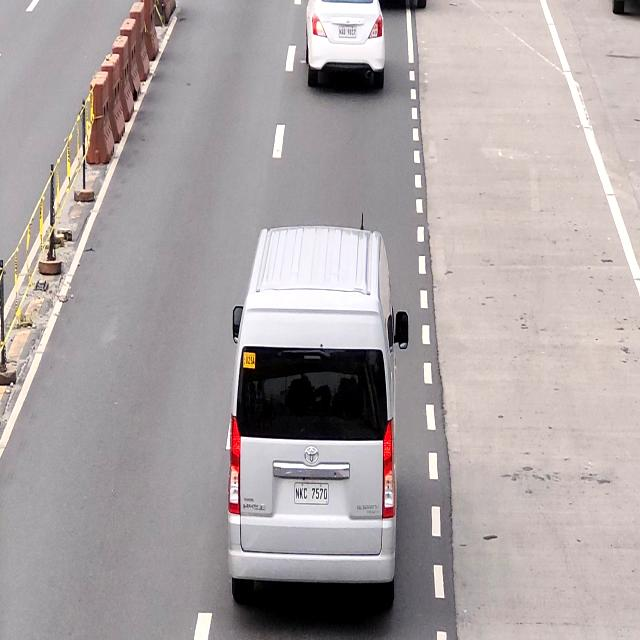Car: (234, 224, 399, 613), (304, 0, 387, 97)
License-Plate: (292, 482, 328, 505), (338, 25, 356, 38)
